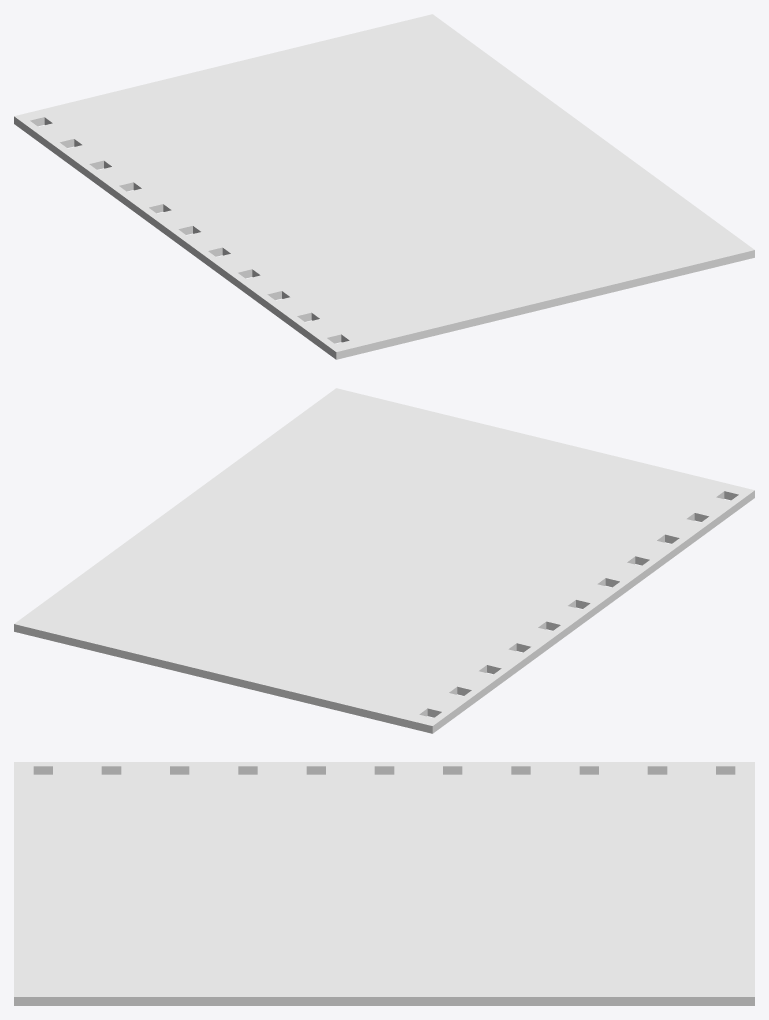
Rendered from Paper2.fbx.
3 renders of one model, top to bottom at view 1: azimuth 30°, elevation 25°; view 2: azimuth 150°, elevation 25°; view 3: azimuth 270°, elevation 25°, orthographic. The views are drawn at different scales.
Parts seen in each view (by area): view 1: Paper2; view 2: Paper2; view 3: Paper2.
Part boxes in pixels (x1,y1,x2,y2): Paper2: (14, 14, 754, 359); Paper2: (14, 388, 754, 733); Paper2: (14, 762, 754, 1005).
Size of the model in its own units: 5.7 by 0.1 by 7.6.
